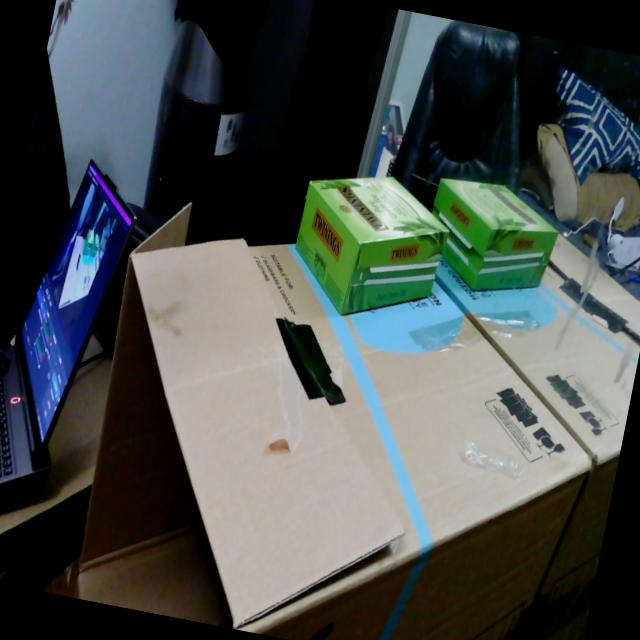twinings_greentea_box: (296, 177, 449, 315)
